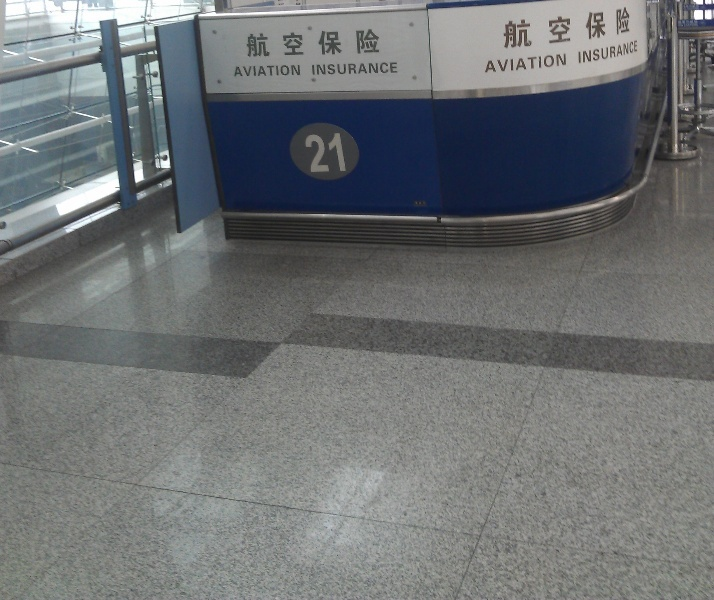text: (305, 129, 320, 178), (321, 129, 336, 178), (513, 6, 528, 52), (529, 6, 544, 52), (545, 6, 560, 52), (561, 6, 576, 52), (577, 6, 592, 52), (593, 6, 608, 52), (609, 6, 624, 52), (500, 6, 512, 52), (337, 129, 348, 178), (257, 28, 272, 59), (273, 28, 288, 59), (289, 28, 304, 59), (305, 28, 320, 59), (321, 28, 336, 59), (337, 28, 352, 59), (353, 28, 368, 59), (243, 28, 256, 59), (369, 28, 382, 59), (577, 40, 592, 65), (593, 40, 608, 65), (609, 40, 624, 65), (625, 40, 640, 65), (625, 6, 632, 52), (497, 54, 512, 74), (513, 54, 528, 74), (529, 54, 544, 74), (545, 54, 560, 74), (321, 61, 336, 78), (337, 61, 352, 78), (353, 61, 368, 78), (369, 61, 384, 78), (385, 61, 398, 78), (485, 54, 496, 74), (241, 64, 256, 78), (257, 64, 272, 78), (273, 64, 288, 78), (289, 64, 302, 78), (311, 61, 320, 78), (301, 129, 304, 178), (561, 54, 568, 74), (233, 64, 240, 78)
